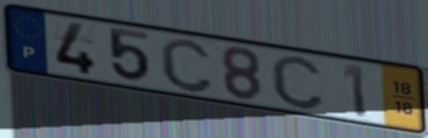1: (340, 63, 369, 120)
4: (53, 20, 98, 77)
5: (105, 25, 153, 84)
8: (219, 45, 264, 102)
C: (268, 53, 327, 112), (157, 36, 216, 95)
